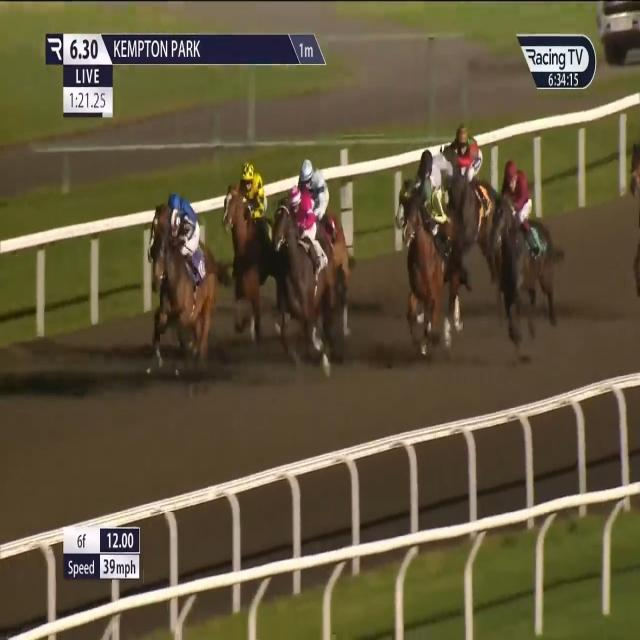horses-racing: (267, 184, 357, 372), (491, 159, 563, 337), (218, 162, 294, 318), (403, 188, 471, 352), (153, 205, 223, 361), (440, 120, 500, 279), (295, 158, 356, 289), (410, 134, 468, 220), (150, 188, 204, 259), (627, 137, 640, 311)
